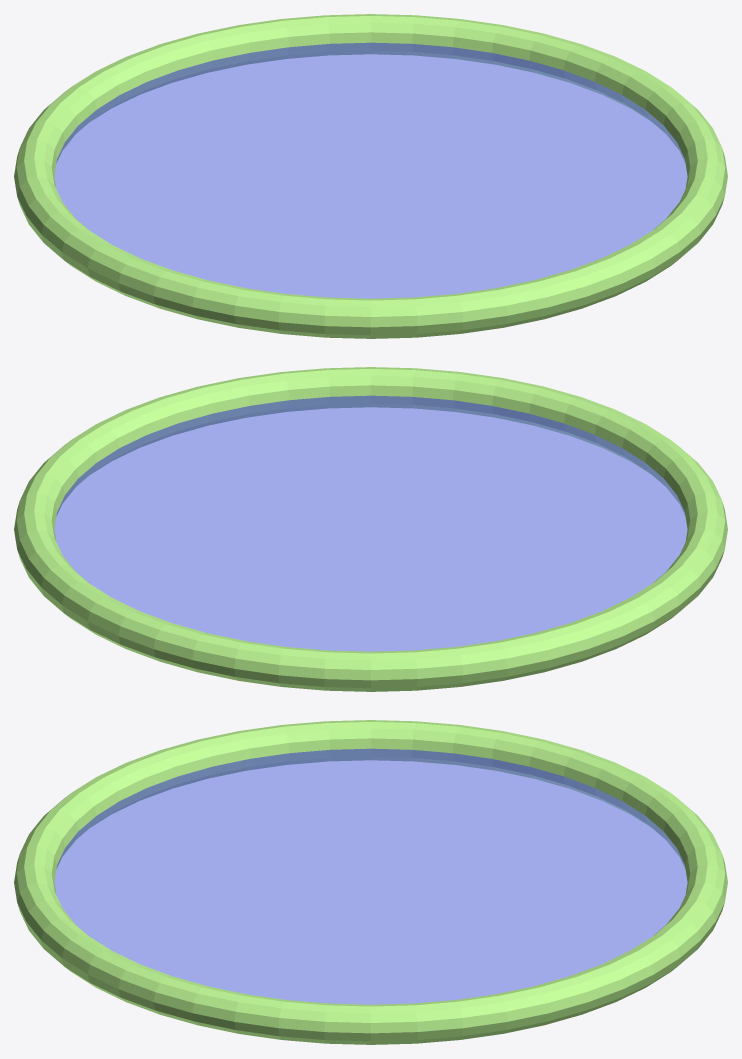
Rendered from BoostRing.fbx.
3 views of the same model, one above another, from view 1: azimuth 30°, elevation 25°; view 2: azimuth 150°, elevation 25°; view 3: azimuth 270°, elevation 25° (orthographic).
Visible parts, largest first — view 1: Circle, BoostRing; view 2: Circle, BoostRing; view 3: Circle, BoostRing.
Boxes of the visible parts, x1,y1,x2,y2 form: Circle: (54,42,687,298); BoostRing: (14,14,727,338); Circle: (54,395,687,651); BoostRing: (14,367,727,691); Circle: (54,748,687,1004); BoostRing: (14,720,727,1044).
Size of the model in its own units: 318 by 18 by 318.
